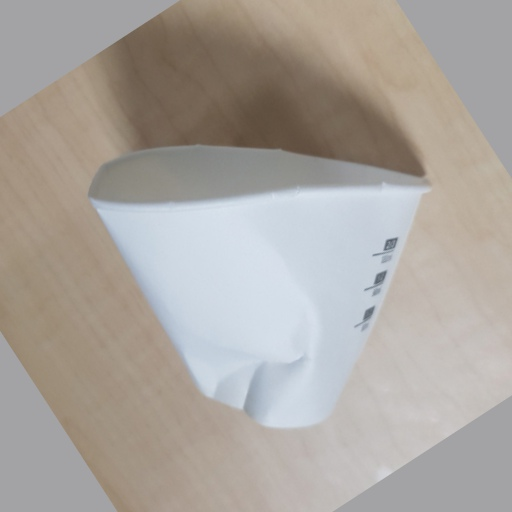Paper_1: (86, 142, 431, 433)
